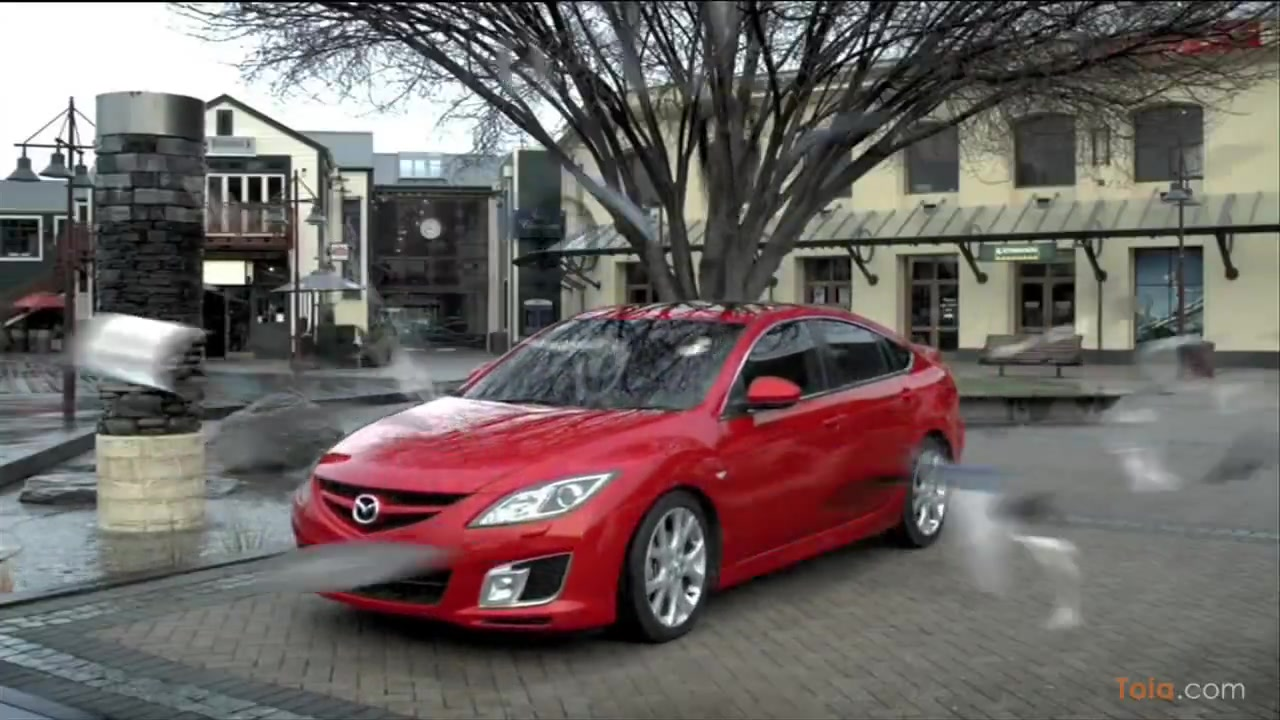car: (293, 301, 968, 654)
